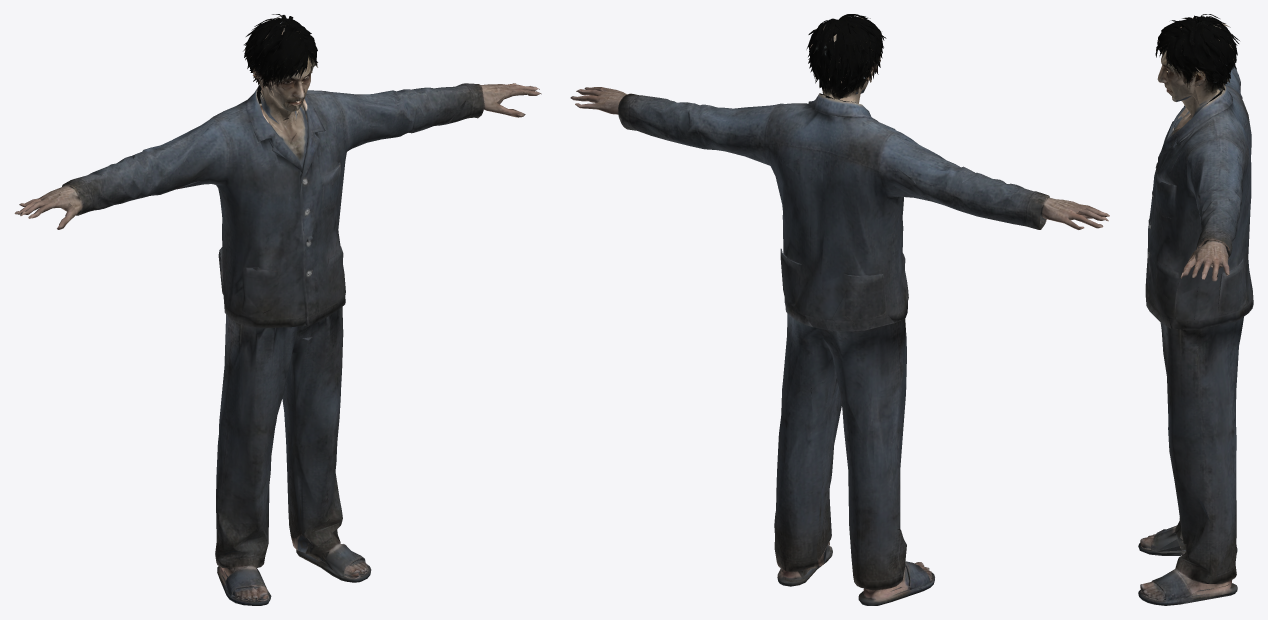
File: Infected.fbx
3 renders of one model, left to right at view 1: azimuth 30°, elevation 25°; view 2: azimuth 150°, elevation 25°; view 3: azimuth 270°, elevation 25°, orthographic. The views are drawn at different scales.
Visible parts, largest first — view 1: output_unwrapped; view 2: output_unwrapped; view 3: output_unwrapped.
Boxes of the visible parts, x1=… form: output_unwrapped: x1=14, y1=14, x2=541, y2=605; output_unwrapped: x1=570, y1=14, x2=1109, y2=605; output_unwrapped: x1=1138, y1=14, x2=1253, y2=605.
Size of the model in its own units: 186 by 190 by 35.73.
1 material, 1 textured.
